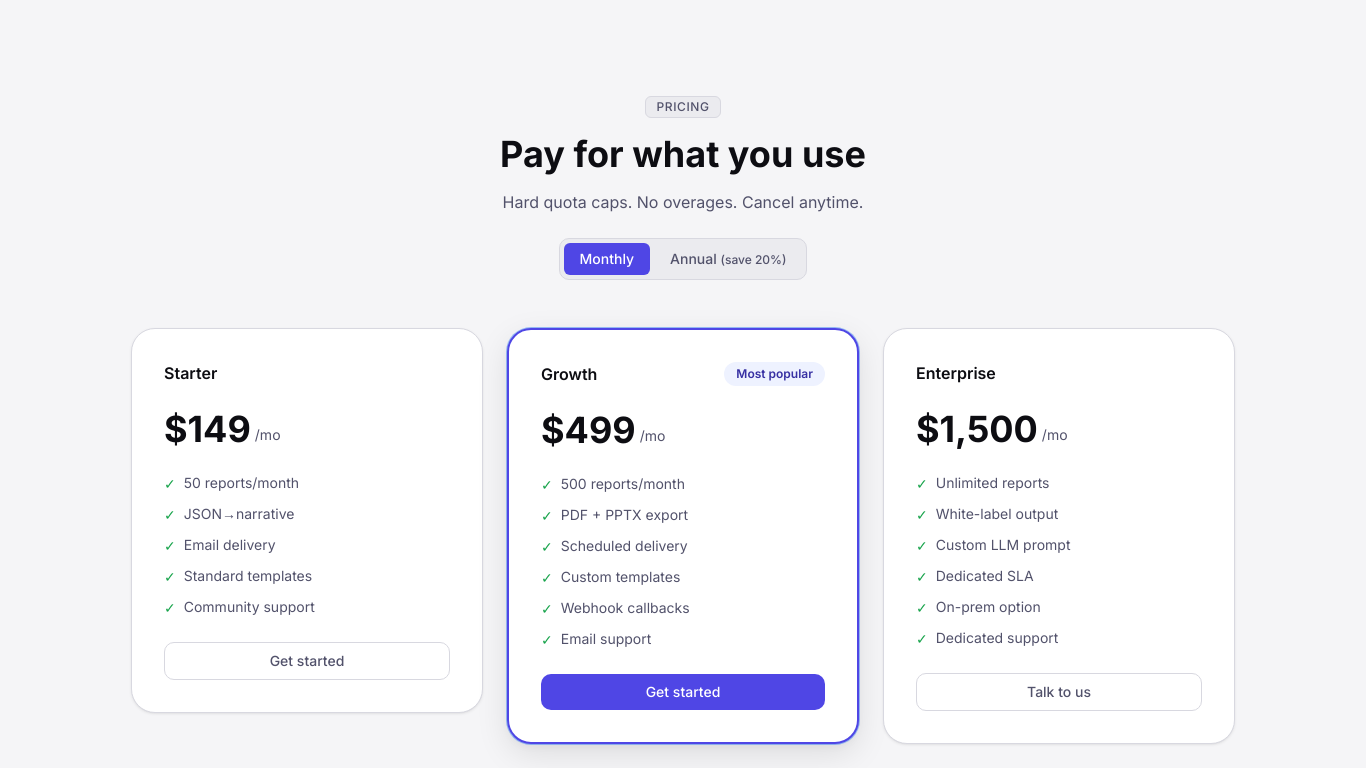
<Pricing /> › shows discounted prices when Annual is selected
The image size is (1366, 768).
Click the button "Annual (save 20%)" at (728, 259), box [654, 243, 802, 275]
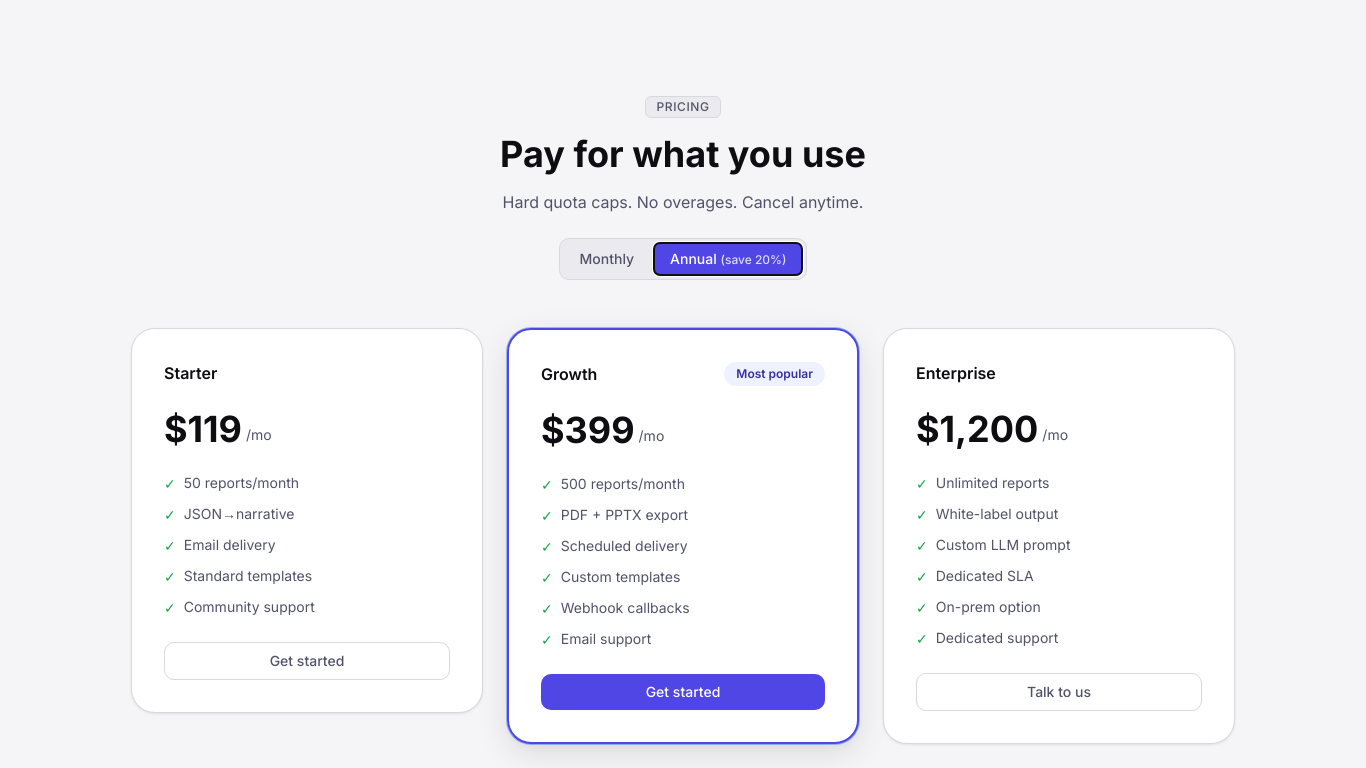
Now the text "$119" is shown, box [164, 409, 242, 449]
Now the text "$399" is shown, box [541, 410, 635, 450]
Now the text "$1,200" is shown, box [916, 409, 1038, 449]
